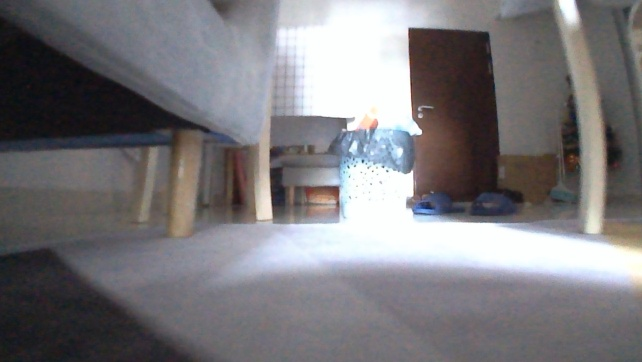blanket: (1, 220, 641, 361)
door_anno: (406, 25, 501, 195)
slipper: (407, 190, 466, 217), (467, 190, 518, 217)
sofa1: (275, 152, 341, 207)
